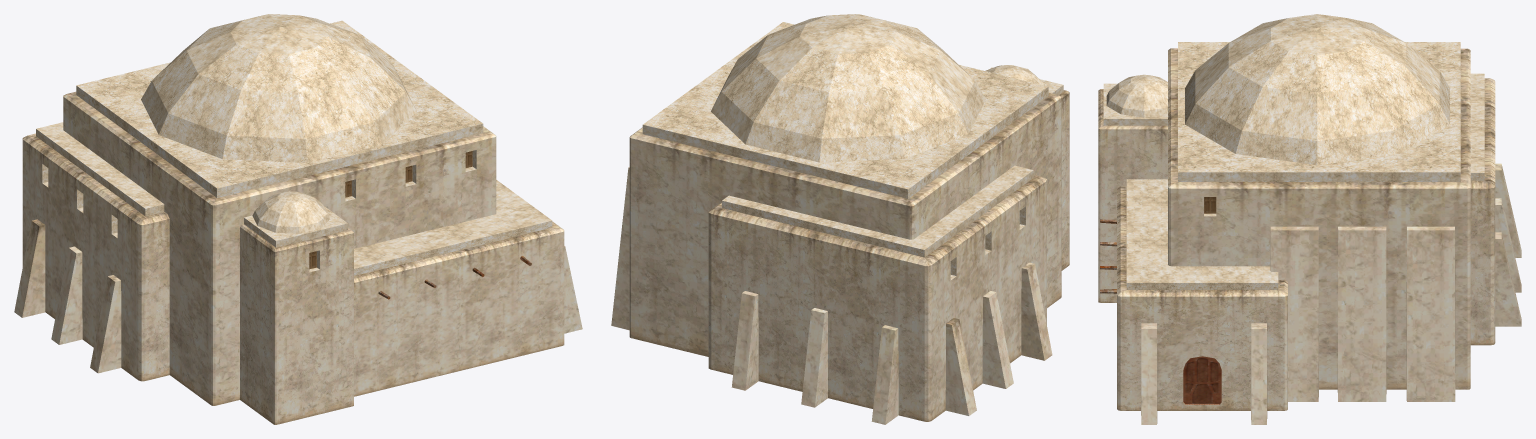
Rendered from thm_tato_imprv_building_s01_l0.fbx.
3 views of the same model, side by side, from view 1: azimuth 30°, elevation 25°; view 2: azimuth 150°, elevation 25°; view 3: azimuth 270°, elevation 25° (orthographic).
Parts seen in each view (by area): view 1: mesh_node; view 2: mesh_node; view 3: mesh_node.
Part boxes in pixels (x1,y1,x2,y2): mesh_node: (14, 14, 582, 424); mesh_node: (611, 14, 1069, 424); mesh_node: (1098, 14, 1521, 424).
Size of the model in its own units: 26.2 by 17.79 by 23.43.
